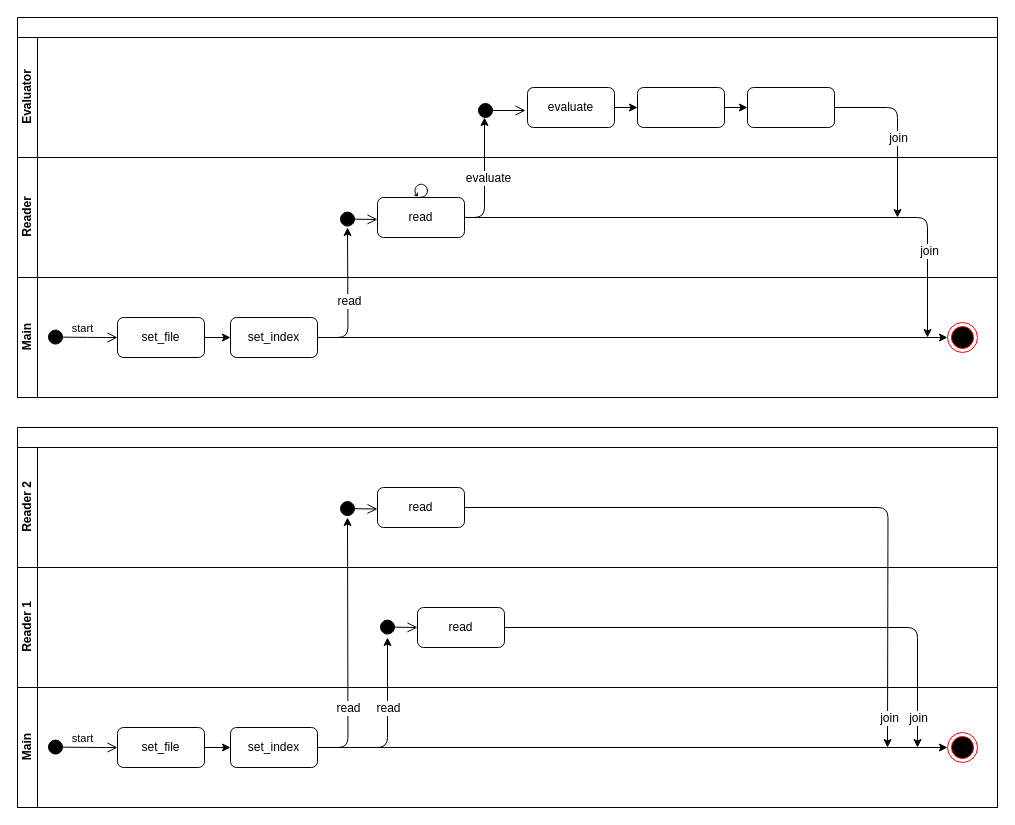
This 1015x825 diagram has some shape labels left out. Here are the shapes that lost their labels. From the top down, the centre of each, then its label:
At (x=680, y=107): "factorize".
At (x=790, y=107): "write_numbers".
